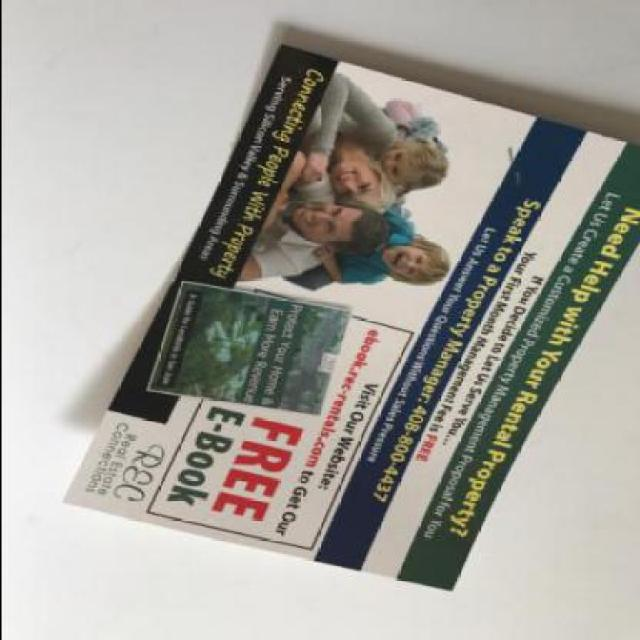PAPER: (60, 46, 638, 592)
